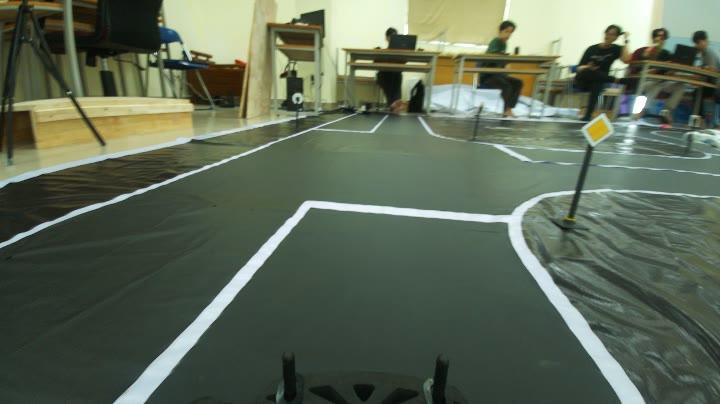priority: (576, 104, 620, 146)
